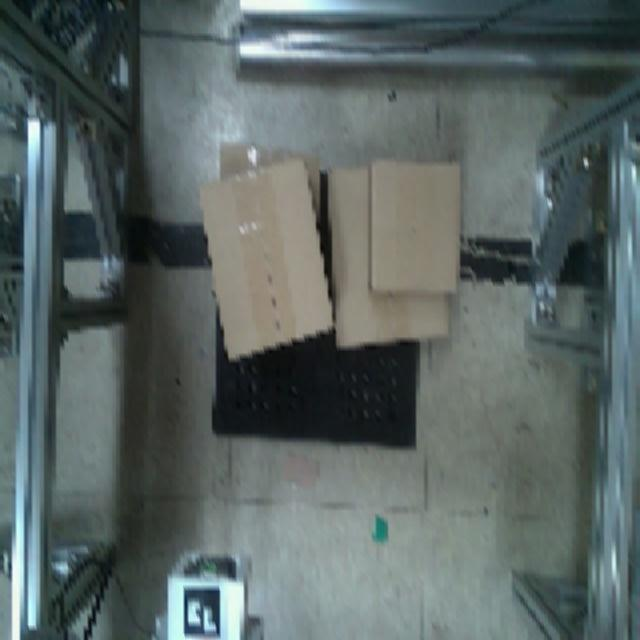box: (197, 158, 337, 366), (367, 157, 471, 299)
